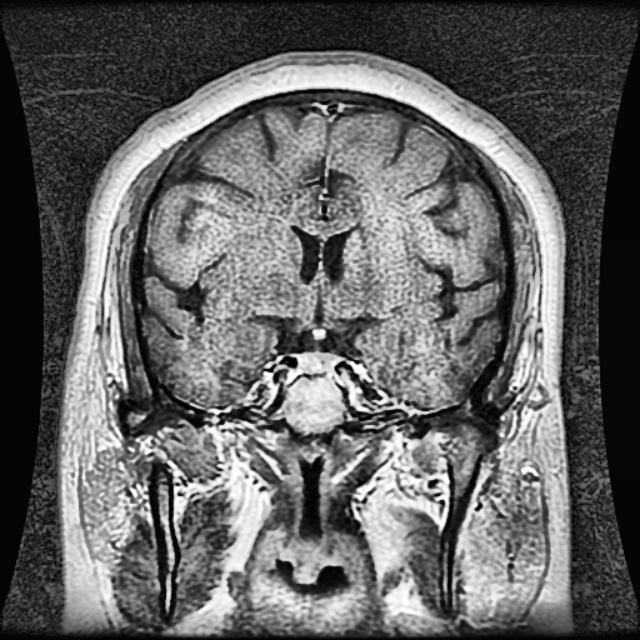Pituitary: (297, 352, 338, 373)
